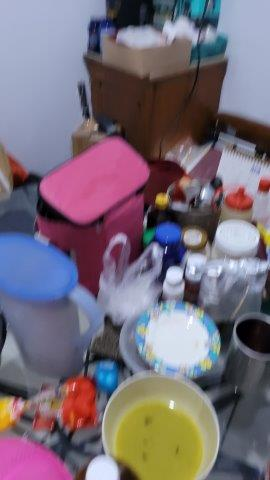plastik: (90, 233, 164, 321)
